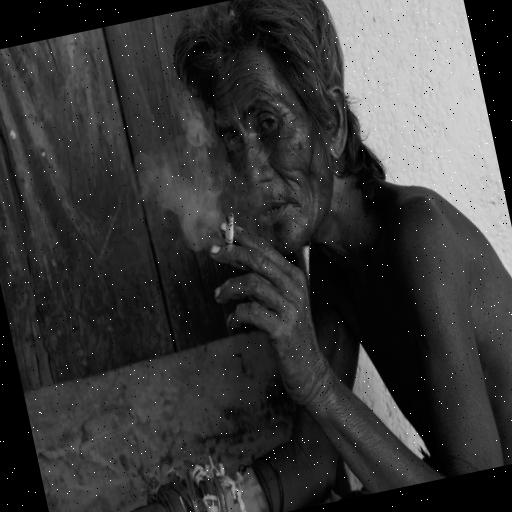terdeteksi pegang rokok: (187, 196, 292, 374)
